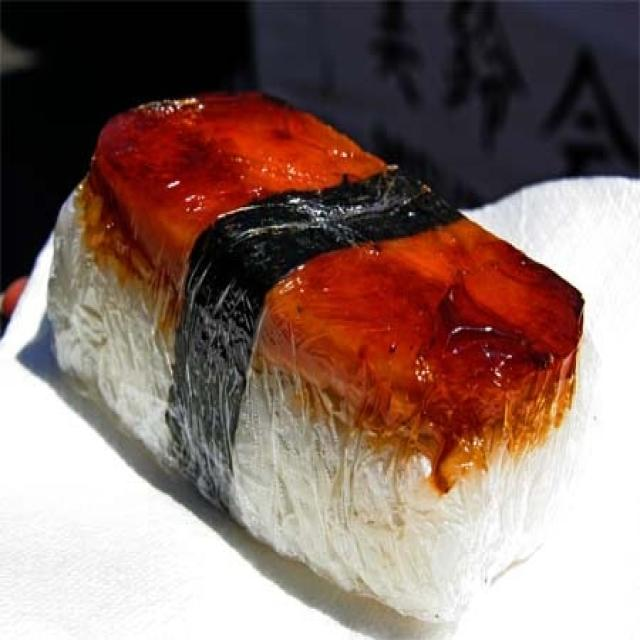寿司卷物: (6, 40, 606, 631)
